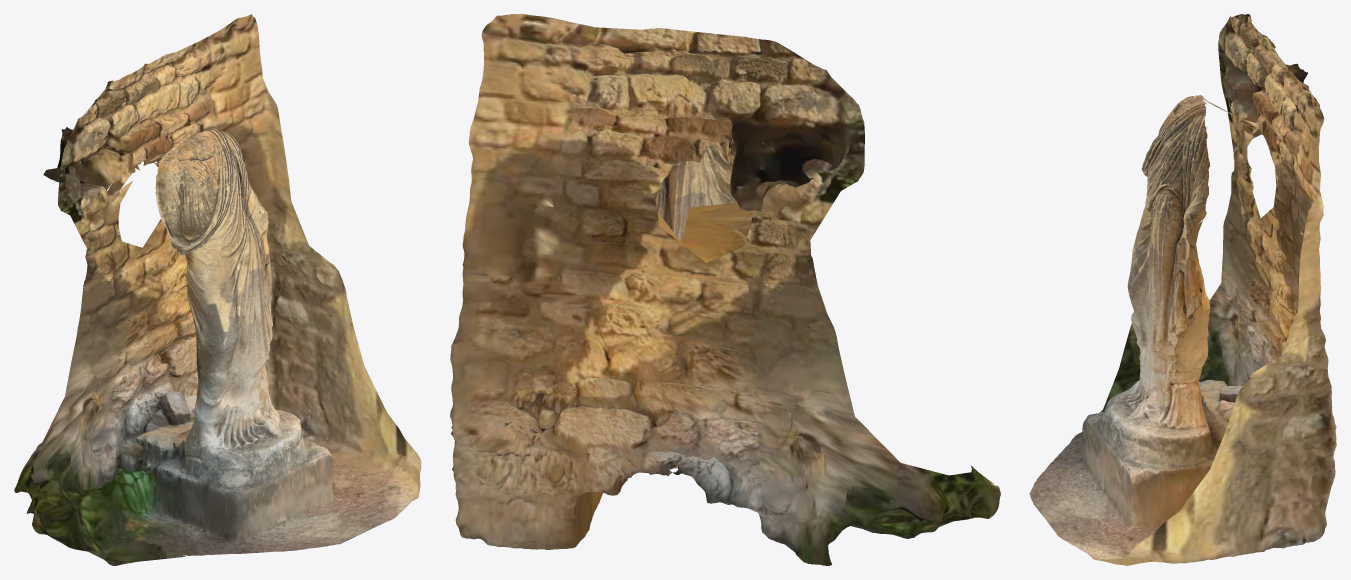
The model's file is standing-draped-statue-roman-villas-of.glb.
3 renders of one model, left to right at view 1: azimuth 30°, elevation 25°; view 2: azimuth 150°, elevation 25°; view 3: azimuth 270°, elevation 25°, orthographic. The views are drawn at different scales.
Parts seen in each view (by area): view 1: Object_2; view 2: Object_2; view 3: Object_2.
Part boxes in pixels (bbox=[...]): Object_2: bbox=[14, 14, 421, 565]; Object_2: bbox=[450, 14, 1000, 565]; Object_2: bbox=[1029, 14, 1336, 565].
Size of the model in its own units: 1.94 by 2.05 by 1.31.
1 material, 1 textured.
